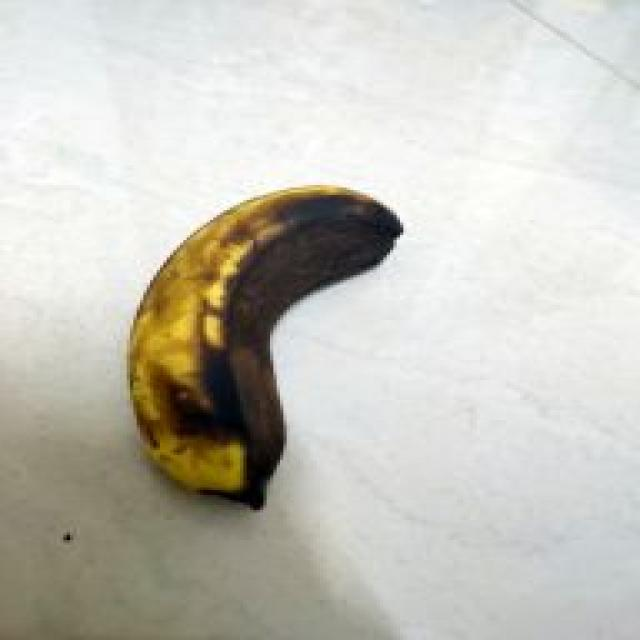Rotten: (108, 137, 424, 529)
